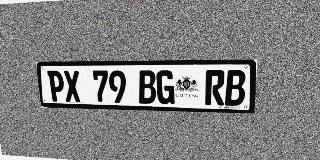7: (91, 70, 110, 103)
9: (108, 70, 127, 103)
B: (225, 70, 246, 106), (138, 70, 156, 104)
G: (156, 70, 175, 104)
P: (47, 71, 65, 102)
R: (205, 70, 225, 105)
X: (63, 71, 81, 102)
